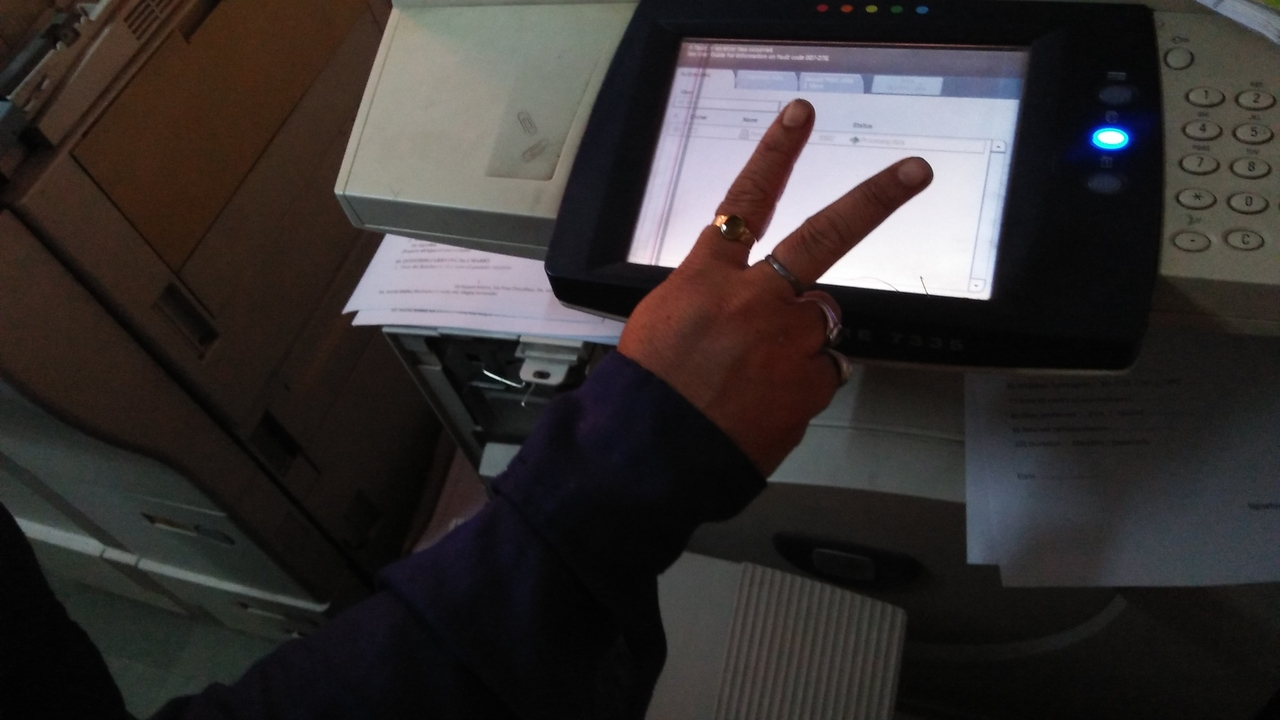fingertip: (766, 86, 828, 136), (876, 144, 940, 190)
